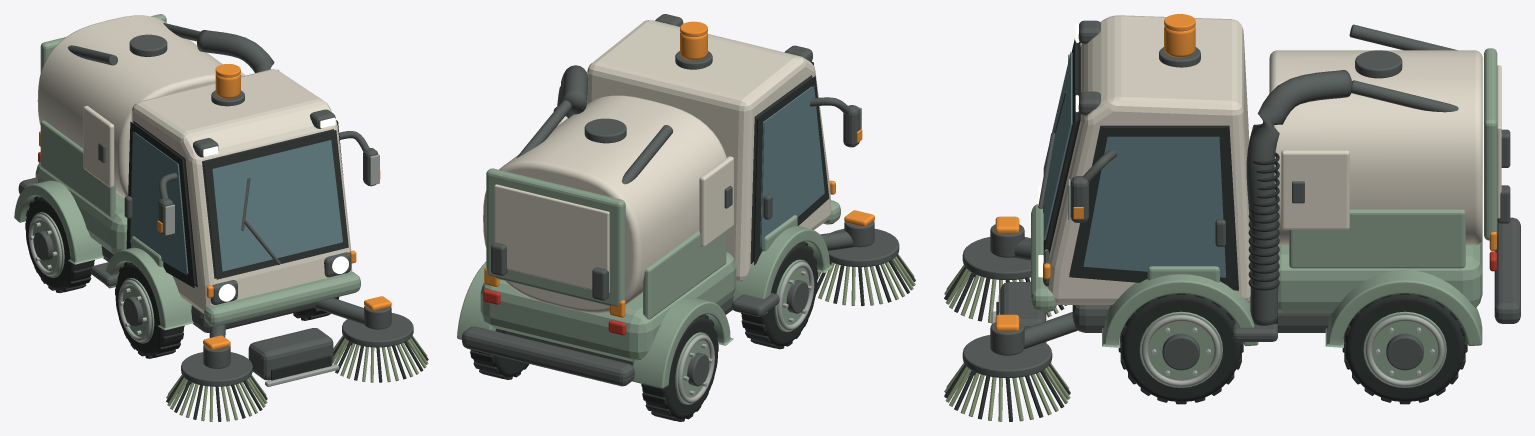
File: street_sweeper.glb
3 renders of one model, left to right at view 1: azimuth 30°, elevation 25°; view 2: azimuth 150°, elevation 25°; view 3: azimuth 270°, elevation 25°, orthographic. The views are drawn at different scales.
Visible parts, largest first — view 1: Cab ivory rounded shell, Enclosed cylindrical collection hopper, Broad panoramic windshield, Left door glazing, Windshield rubber surround, Sage front bumper, Hopper sage lower panel -1, Rounded wheel arch (-1, 1.05), Suction shoe body, Rounded wheel arch (-1, -0.65), Left door gasket, Lower rear service sill (+22 smaller); view 2: Enclosed cylindrical collection hopper, Cab ivory rounded shell, Rear door inset, Lower rear service sill, Left door glazing, Rear dump door, Rear bumper, Hopper sage lower panel -1, Rounded wheel arch (-1, 1.05), Left door gasket, Rounded wheel arch (-1, -0.65), Hopper service hatch -1 (+24 smaller); view 3: Enclosed cylindrical collection hopper, Cab ivory rounded shell, Right door glazing, Hopper sage lower panel 1, External ribbed suction hose, Lower rear service sill, Right door gasket, Wheel 1 rear tire, Hopper service hatch 1, Wheel 1 front tire, Rounded wheel arch (1, 1.05), Rounded wheel arch (1, -0.65) (+26 smaller).
Boxes of the visible parts, x1,y1,x2,y2 form: Cab ivory rounded shell: [131, 69, 352, 313]; Enclosed cylindrical collection hopper: [37, 15, 222, 198]; Broad panoramic windshield: [212, 140, 342, 271]; Left door glazing: [130, 131, 188, 274]; Windshield rubber surround: [202, 129, 348, 279]; Sage front bumper: [204, 272, 360, 326]; Hopper sage lower panel -1: [40, 120, 115, 216]; Rounded wheel arch (-1, 1.05): [14, 180, 103, 264]; Suction shoe body: [248, 328, 333, 380]; Rounded wheel arch (-1, -0.65): [105, 247, 193, 330]; Left door gasket: [126, 121, 197, 287]; Lower rear service sill: [35, 162, 127, 253]; Enclosed cylindrical collection hopper: [483, 95, 726, 313]; Cab ivory rounded shell: [587, 20, 831, 281]; Rear door inset: [494, 184, 609, 292]; Lower rear service sill: [480, 252, 736, 361]; Left door glazing: [760, 86, 824, 248]; Rear dump door: [486, 168, 625, 306]; Rear bumper: [462, 326, 634, 386]; Hopper sage lower panel -1: [643, 230, 726, 319]; Rounded wheel arch (-1, 1.05): [632, 297, 733, 388]; Left door gasket: [750, 75, 829, 265]; Rounded wheel arch (-1, -0.65): [732, 226, 832, 315]; Hopper service hatch -1: [699, 156, 733, 247]; Enclosed cylindrical collection hopper: [1269, 50, 1482, 245]; Cab ivory rounded shell: [1047, 15, 1250, 304]; Right door glazing: [1083, 136, 1226, 277]; Hopper sage lower panel 1: [1289, 209, 1465, 268]; External ribbed suction hose: [1246, 70, 1352, 325]; Lower rear service sill: [1278, 239, 1482, 313]; Right door gasket: [1069, 125, 1238, 290]; Wheel 1 rear tire: [1345, 294, 1464, 401]; Hopper service hatch 1: [1281, 150, 1349, 229]; Wheel 1 front tire: [1121, 294, 1240, 401]; Rounded wheel arch (1, 1.05): [1325, 269, 1482, 347]; Rounded wheel arch (1, -0.65): [1102, 274, 1258, 347].
Bounding box in the file's own units: 2.72 × 2.77 × 4.38.
